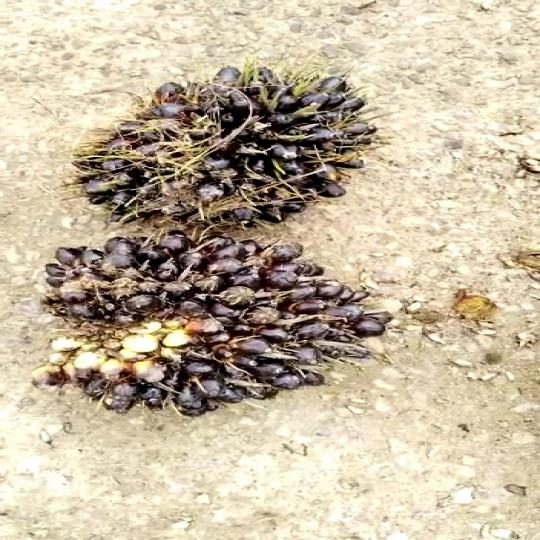mentah: (35, 231, 400, 419), (68, 56, 381, 238)
